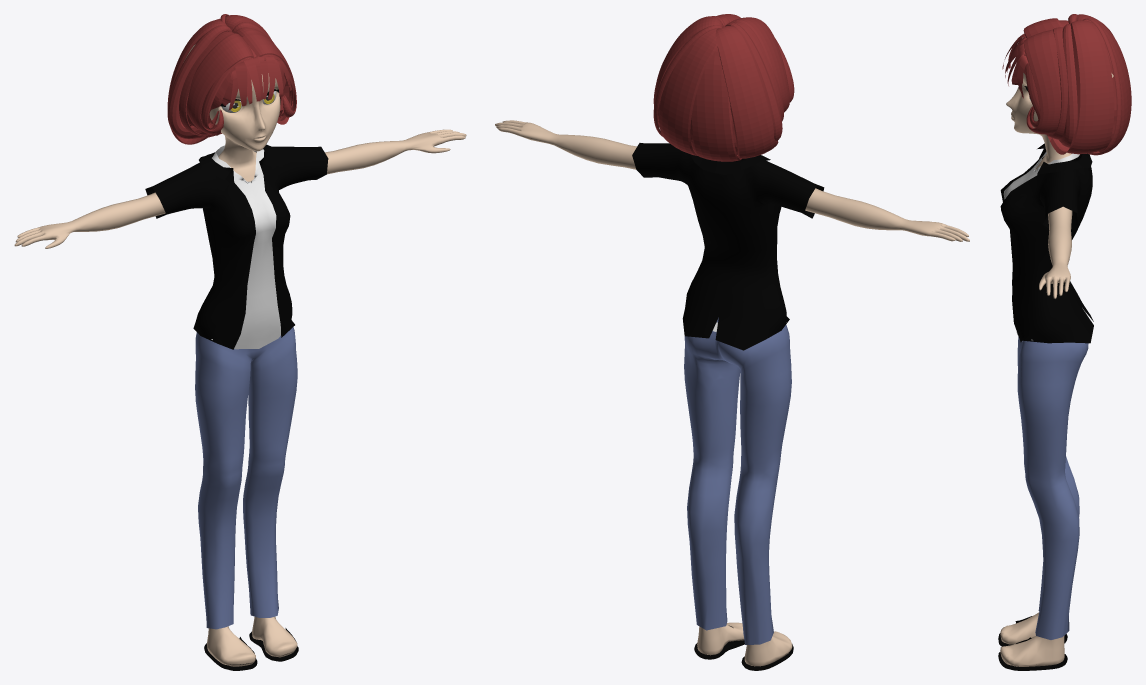
File: Girl Test V1.2.fbx
3 views of the same model, side by side, from view 1: azimuth 30°, elevation 25°; view 2: azimuth 150°, elevation 25°; view 3: azimuth 270°, elevation 25° (orthographic). The views are drawn at different scales.
Visible parts, largest first — view 1: polySurface61; view 2: polySurface61; view 3: polySurface61.
Boxes of the visible parts, x1,y1,x2,y2 form: polySurface61: (14,14,466,670); polySurface61: (495,14,969,670); polySurface61: (998,14,1131,670).
Size of the model in its own units: 6.78 by 8.87 by 1.69.
